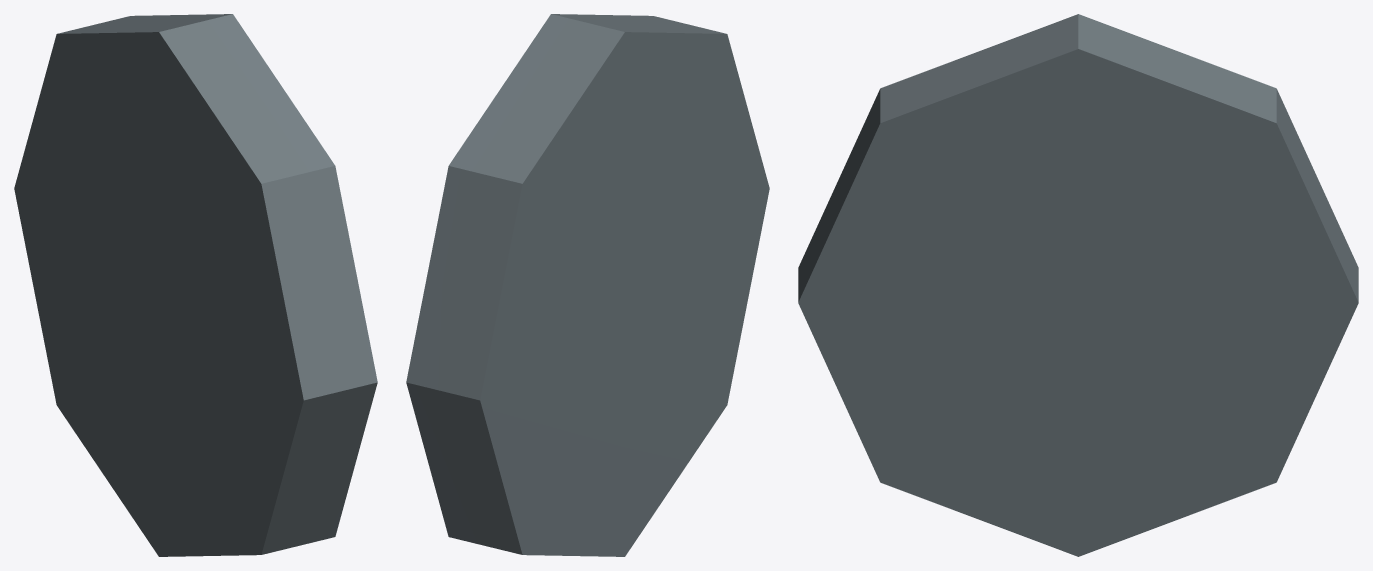
Rendered from samurai_SM_Gen_Bld_Pipe_Cap_01.gltf.
The picture shows the model from 3 angles, left to right: view 1: azimuth 30°, elevation 25°; view 2: azimuth 150°, elevation 25°; view 3: azimuth 270°, elevation 25°; orthographic projection. The views are drawn at different scales.
Visible parts, largest first — view 1: SM_Gen_Bld_Pipe_Cap_01; view 2: SM_Gen_Bld_Pipe_Cap_01; view 3: SM_Gen_Bld_Pipe_Cap_01.
Boxes of the visible parts, <box> form: SM_Gen_Bld_Pipe_Cap_01: <box>14,14,377,556</box>; SM_Gen_Bld_Pipe_Cap_01: <box>406,14,769,556</box>; SM_Gen_Bld_Pipe_Cap_01: <box>798,14,1358,556</box>.
Bounding box in the file's own units: 0.0559 × 0.379 × 0.379.
1 material, 1 textured.
